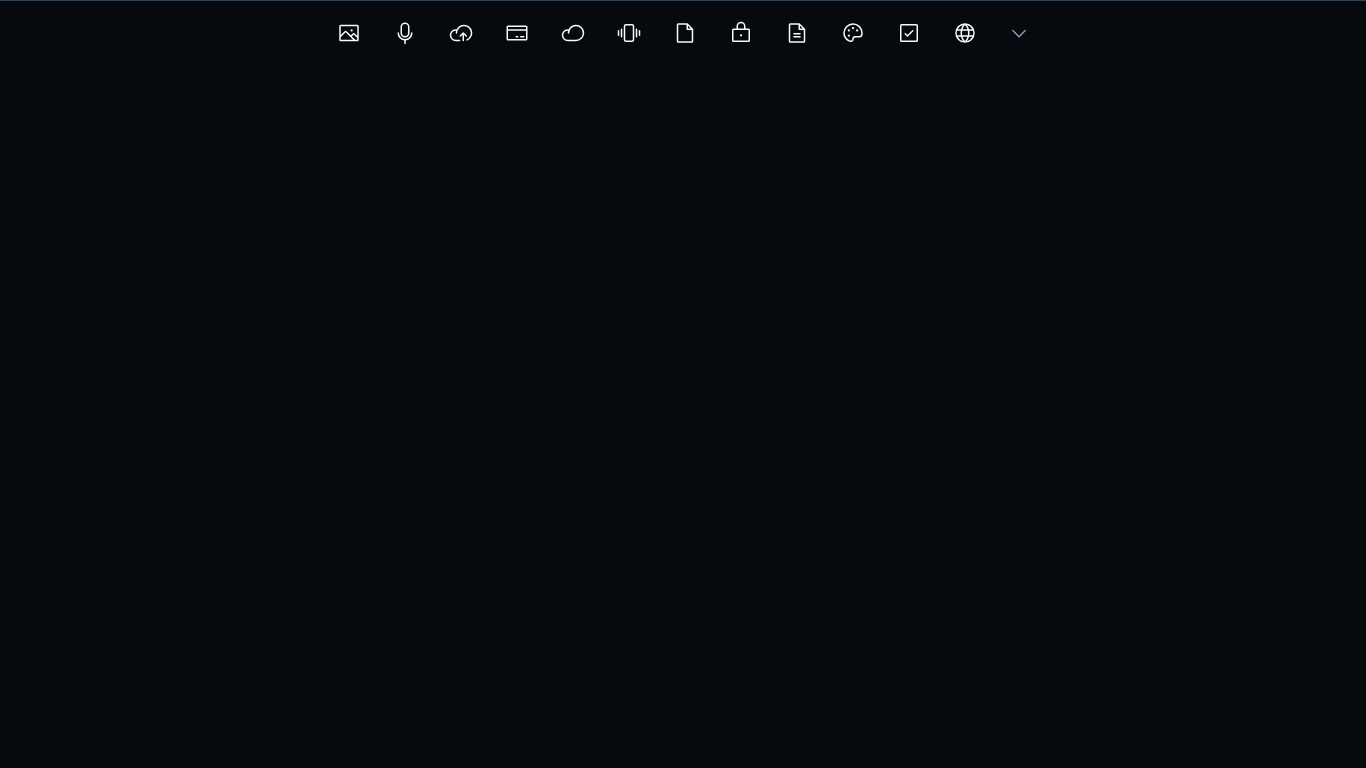
Scenario: AdvancedToolbar › Panel Opening › should close panel when close button is clicked
This screenshot has width=1366, height=768.
Click the button named "Add Image Upload". click: [349, 33]
box: [329,13,369,53]
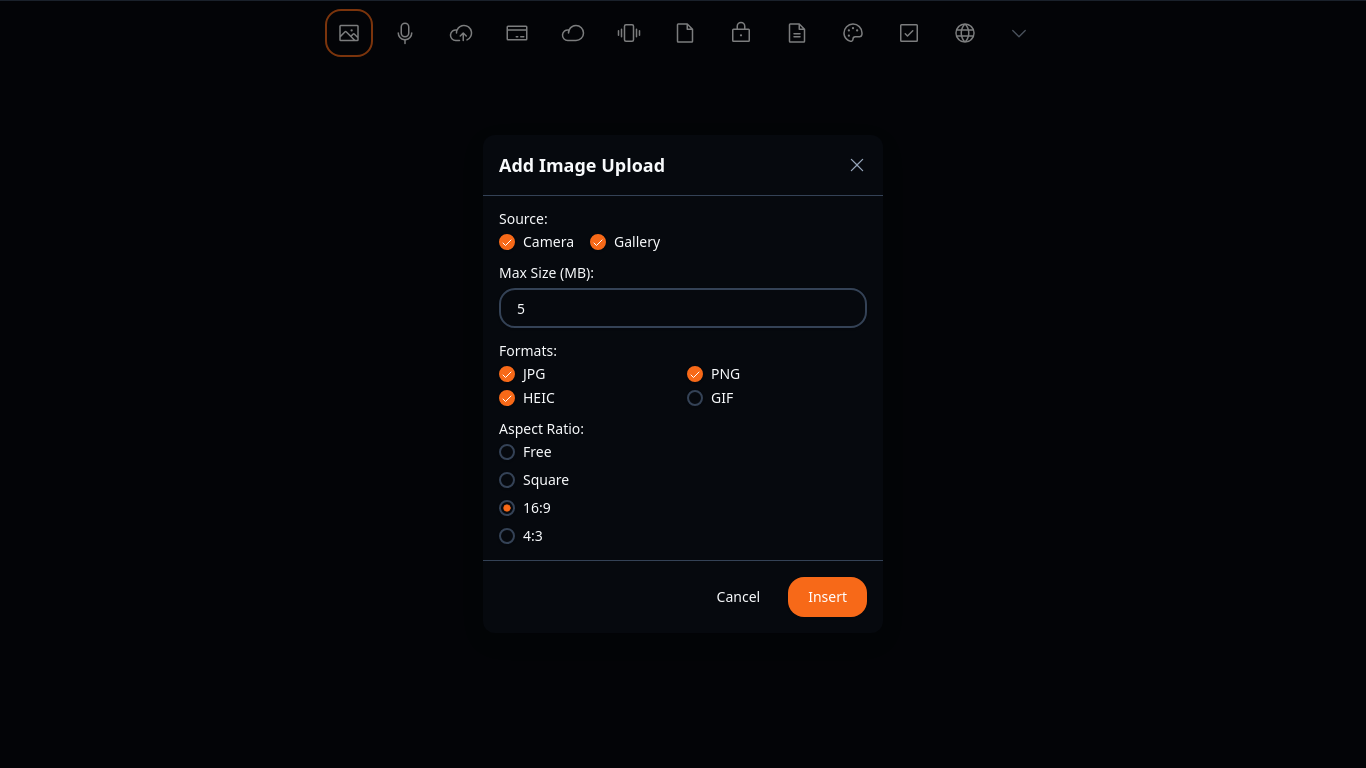
expect the element with class "inset-0" is shown: met
# Find and click close button (X icon)
Click the button named "Close panel". click: [857, 165]
box: [847,155,867,175]
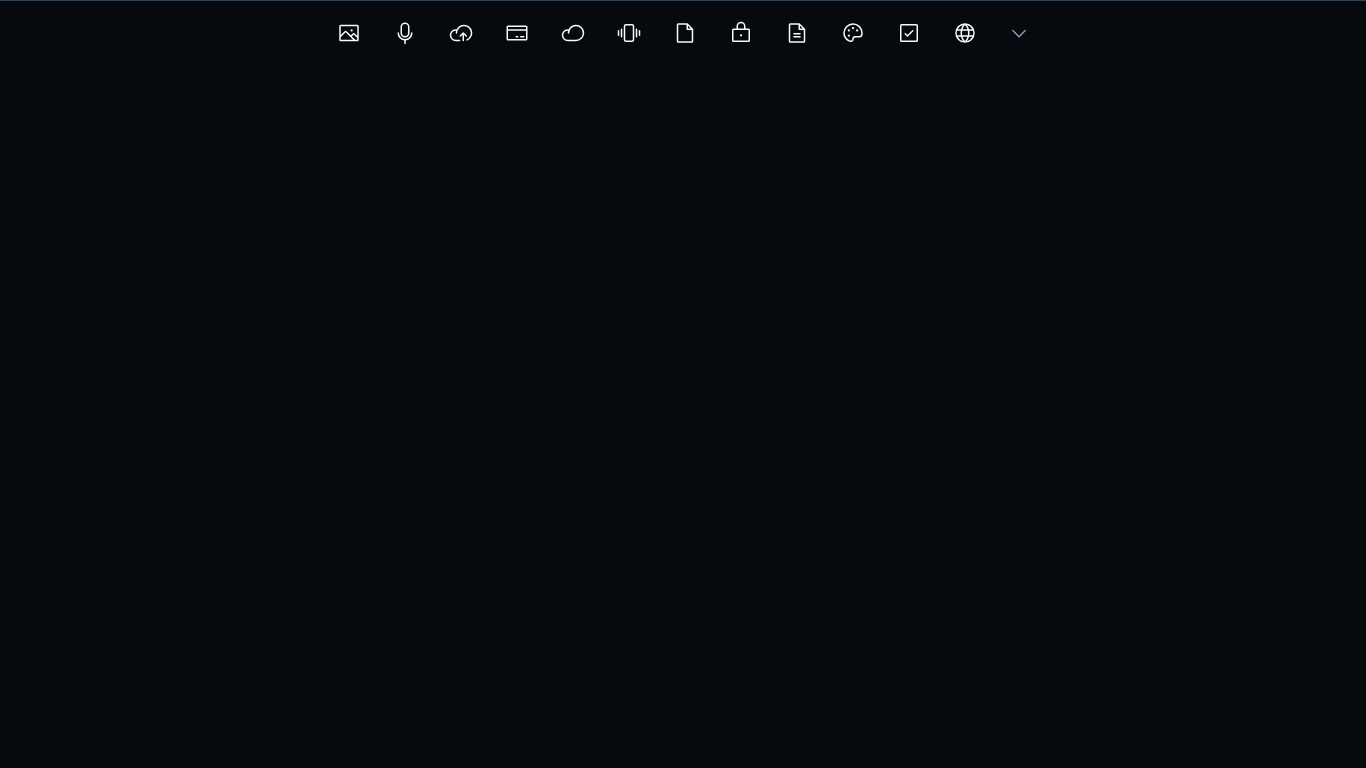
expect the element with class "inset-0" is gone: met
